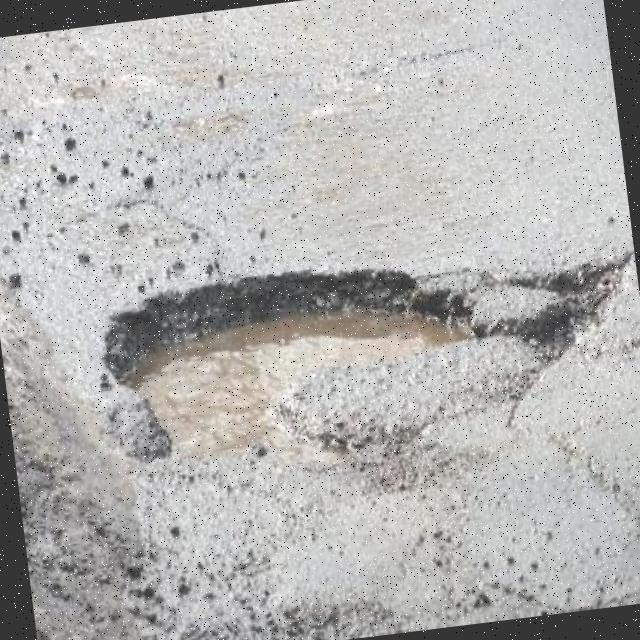Pothole: (88, 252, 631, 482)
